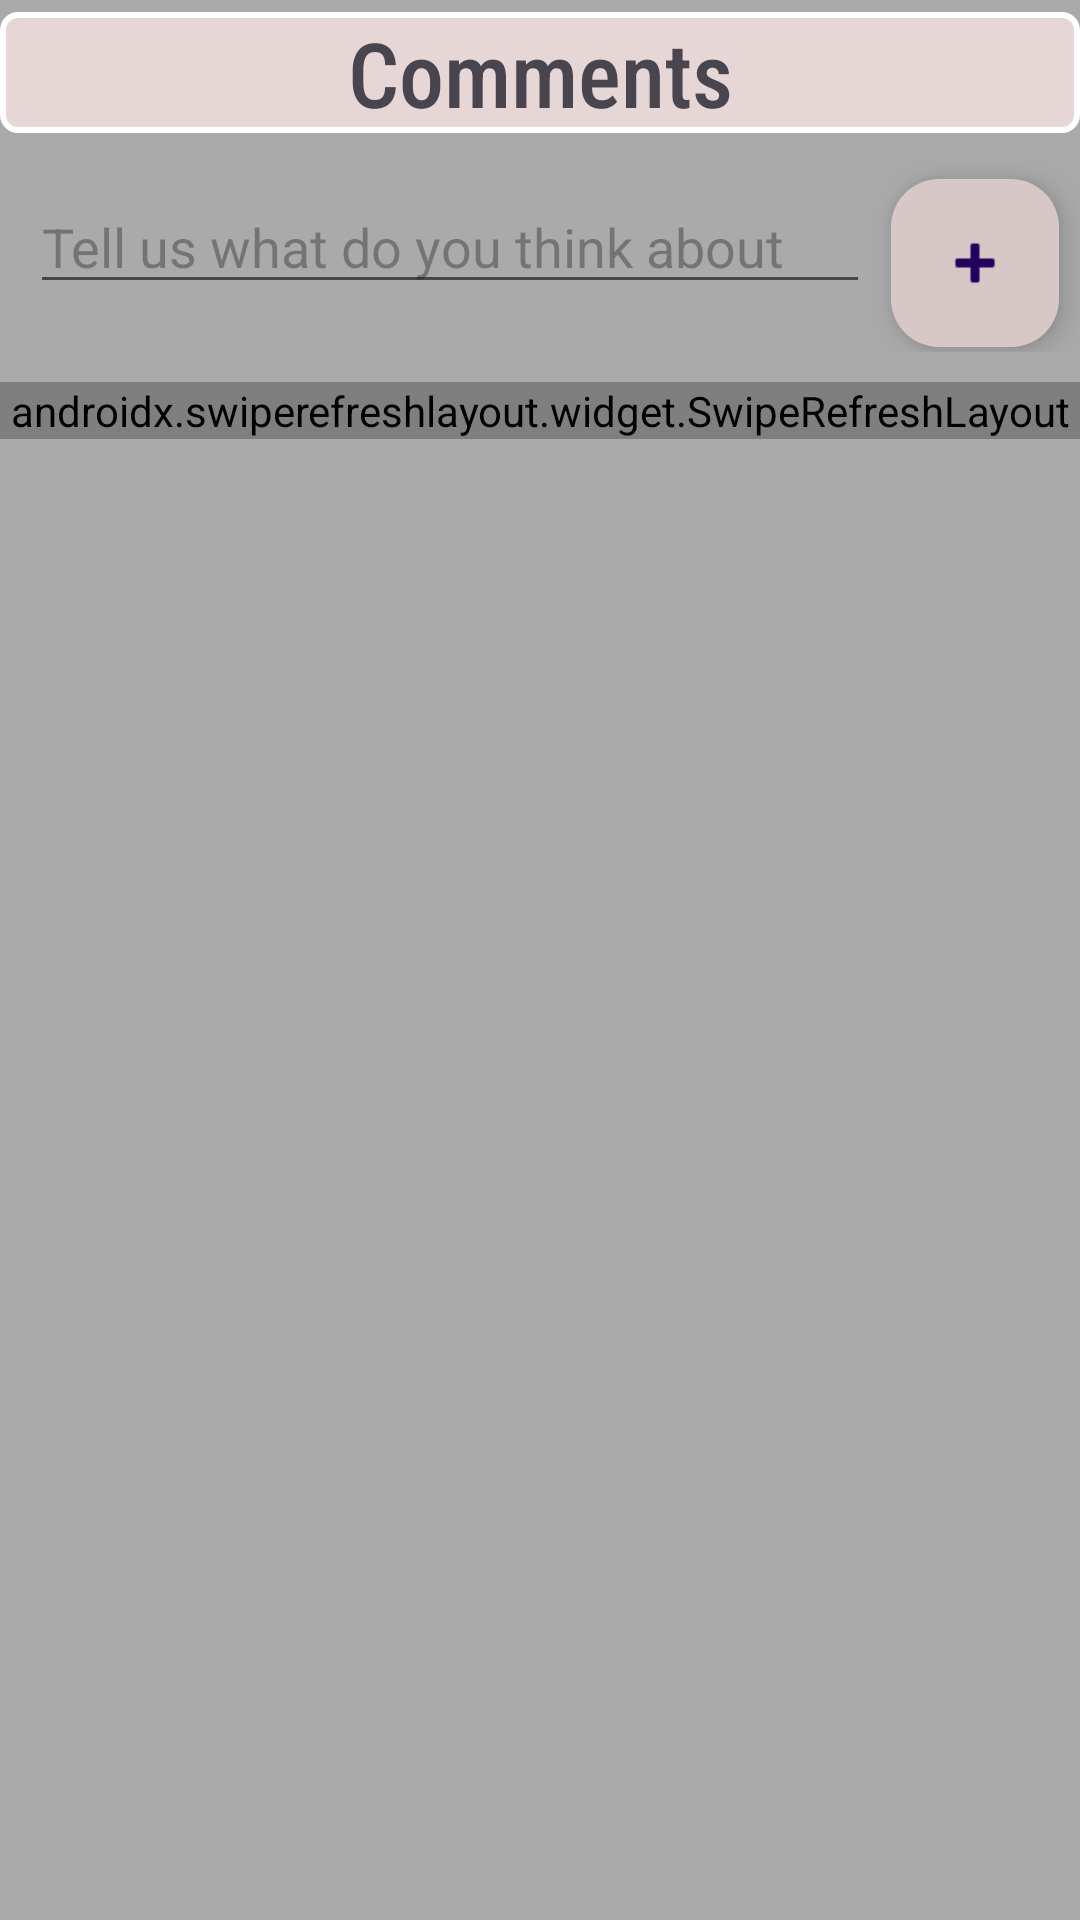

Locate icon controls on the screen. Image size 1080*1920, boxes as (x1, y1, x2, y2).
add: (891, 179, 1059, 347)
